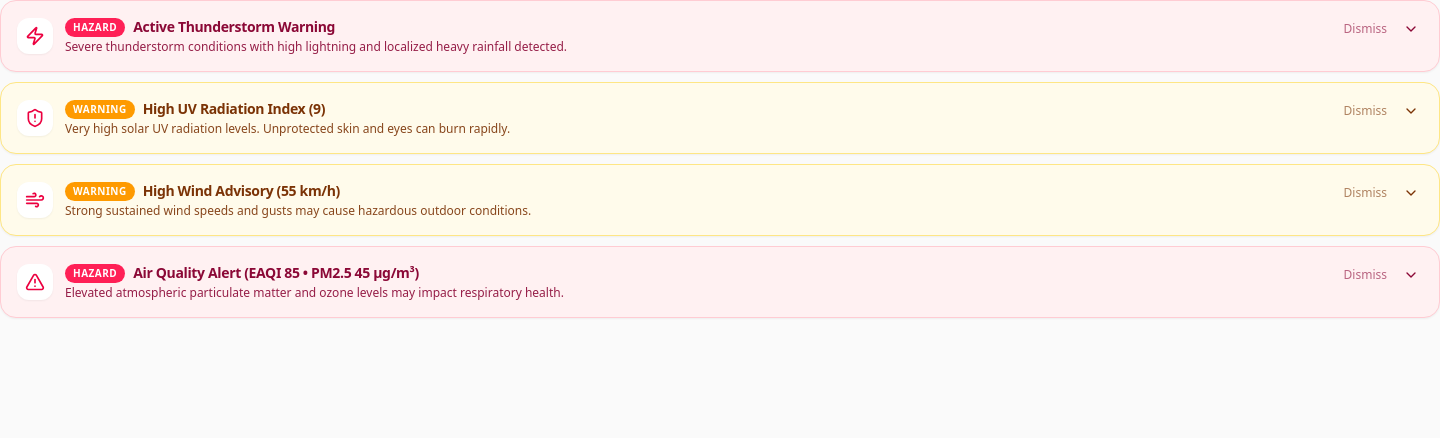
Test case: WeatherAlerts component & computeWeatherAlerts › renders alert cards and allows expanding for safety tips
Note: Click card to expand
Click the heading "Active Thunderstorm Warning": (234, 27) [133, 17, 335, 37]
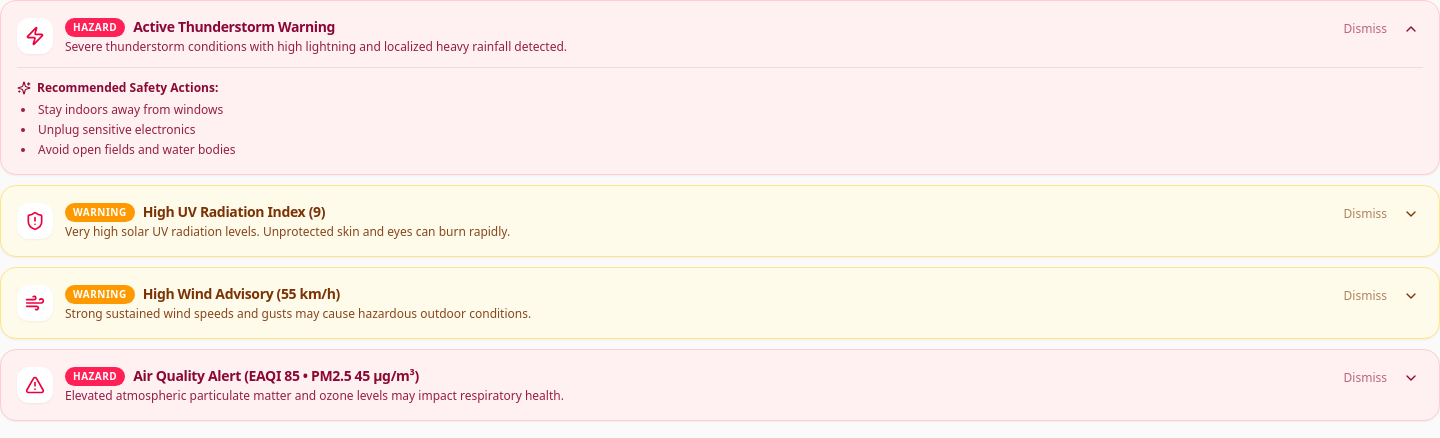
Result: the text "Recommended Safety Actions:" is shown at [17, 79, 218, 96]
Result: the list item "Stay indoors away from windows" is shown at [38, 101, 223, 118]
